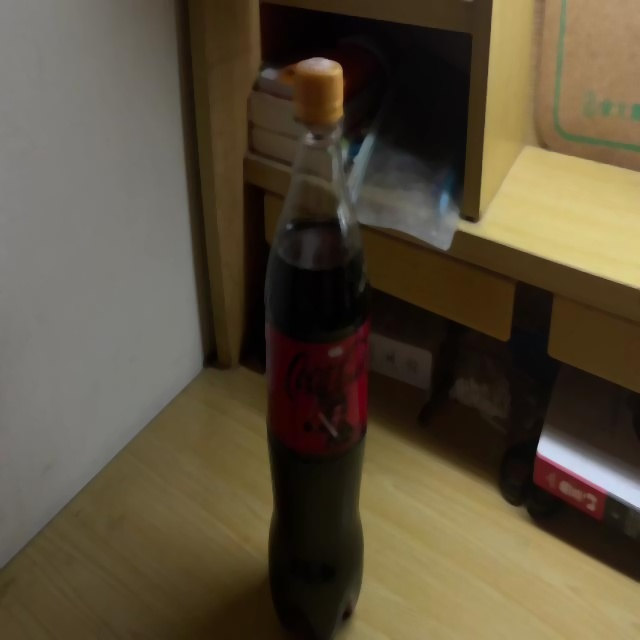Coca-Cola: (263, 56, 366, 640)
